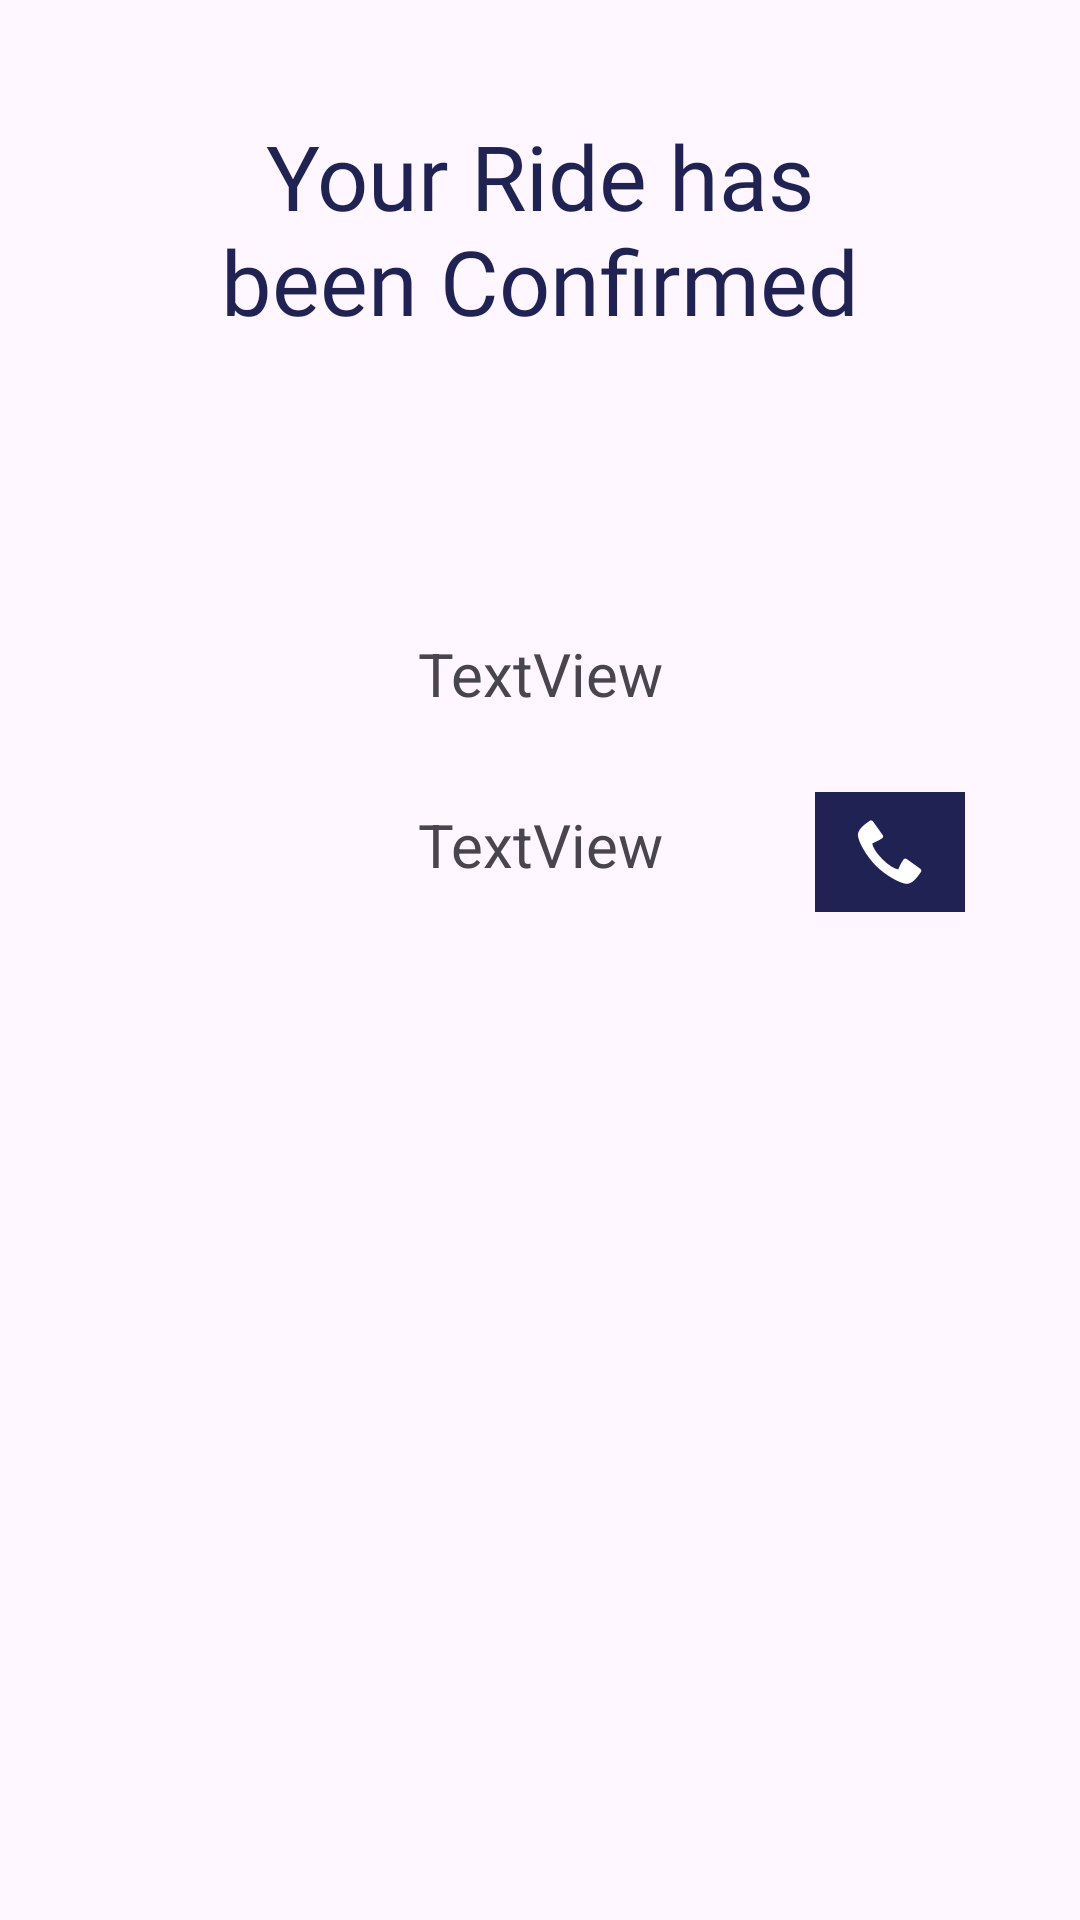

Point at icon controls on the screen. Image size 1080w x 1920h, points as [x,y].
Call driver: [890,852]
